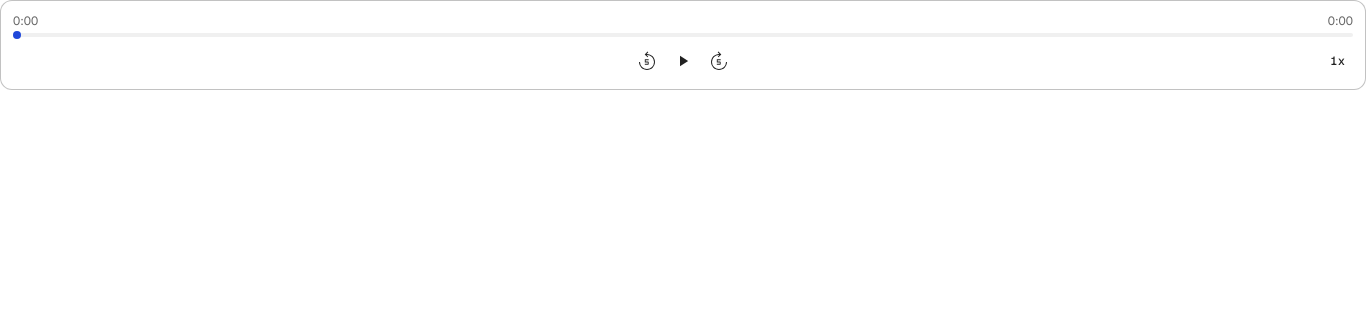
it: AudioPlayer › changes playback speed from its dropdown
The image size is (1366, 324).
Click the button named "Playback speed: 1x" at (1338, 61), box [1322, 45, 1353, 77]
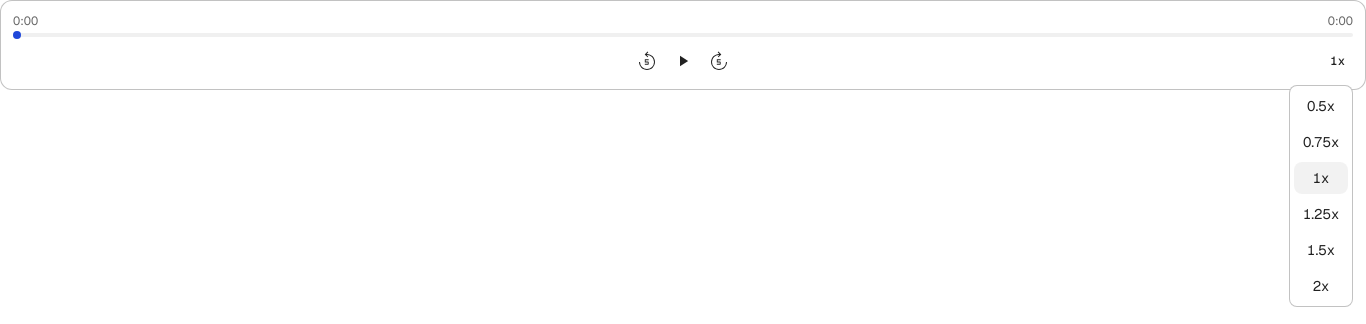
Click the option "1.5x" at (1321, 250), box [1294, 234, 1348, 266]
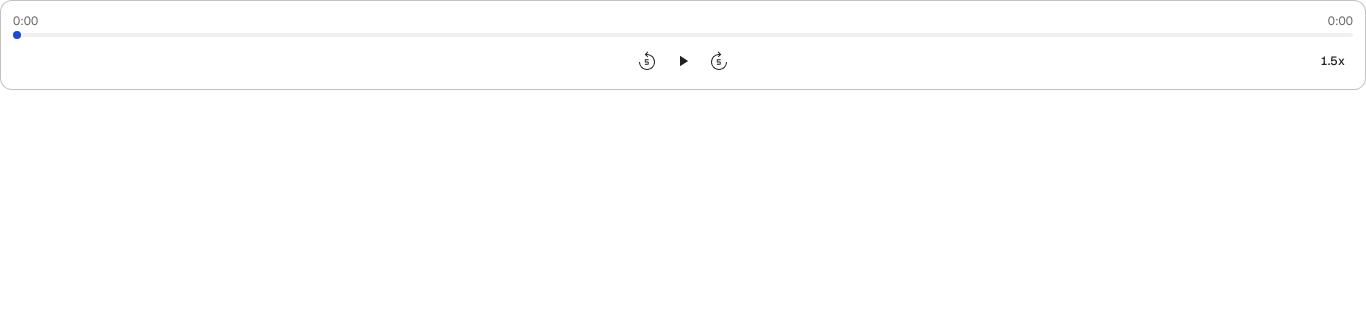
Result: the button named "Playback speed: 1.5x" is shown at [1312, 45, 1353, 77]
